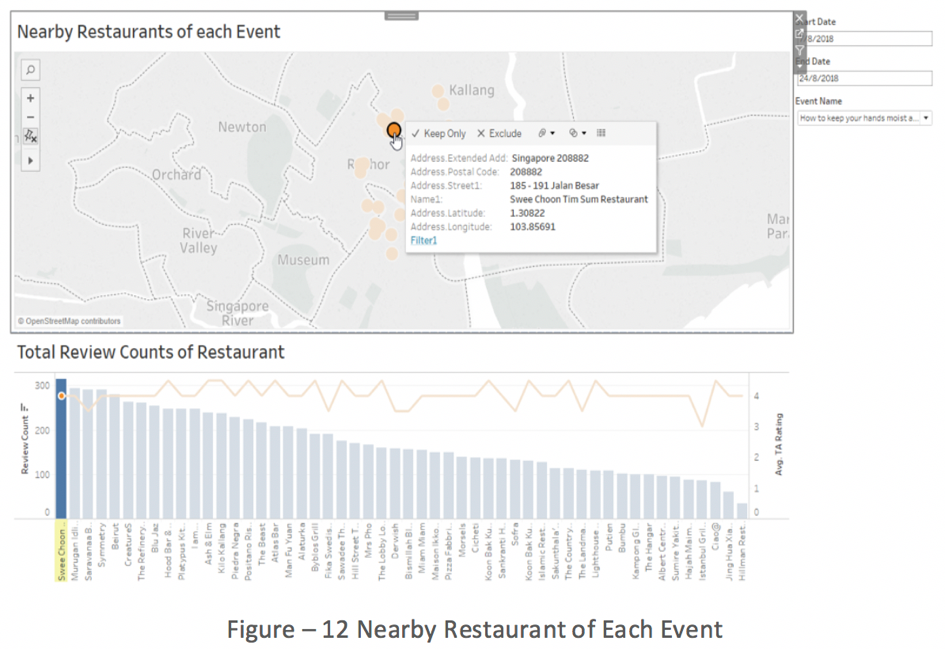

Layout of this report page (visuals, bound fields, positions):
{"tool":"tableau","page":{"name":"Dashboard 1","canvas":[1024,700],"ordinal":0},"visuals":[{"type":"worksheet","title":"Nearby Restaurant of Event","mark":"Multipolygon","rows":["Address.Latitude"],"cols":["Address.Longitude"],"box":[8,8,848,342]},{"type":"parameter","param":"[Parameters].[Parameter 1]","box":[856,8,160,52]},{"type":"parameter","param":"[Parameters].[Parameter 2]","box":[856,60,160,52]},{"type":"filter","title":"Nearby Restaurant of Event","param":"[federated.11czj7218tkvnd1bal7d11ah4b07].[none:event_name:nk]","box":[856,112,160,52]},{"type":"worksheet","title":"Total Review Counts of Restaurant","mark":"Automatic","rows":["Review_Count"],"cols":["Name"],"box":[8,350,848,342]}]}

Visuals, with their boxes in screenshot pixels (x1, y1, x2, y2), scaled from the page's 1024x700 canvas onto the 945x649 screenshot:
"Nearby Restaurant of Event" worksheet (Multipolygon marks): l=7, t=7, r=790, b=324
parameter: l=790, t=7, r=938, b=56
parameter: l=790, t=56, r=938, b=104
"Nearby Restaurant of Event" filter: l=790, t=104, r=938, b=152
"Total Review Counts of Restaurant" worksheet: l=7, t=324, r=790, b=642
